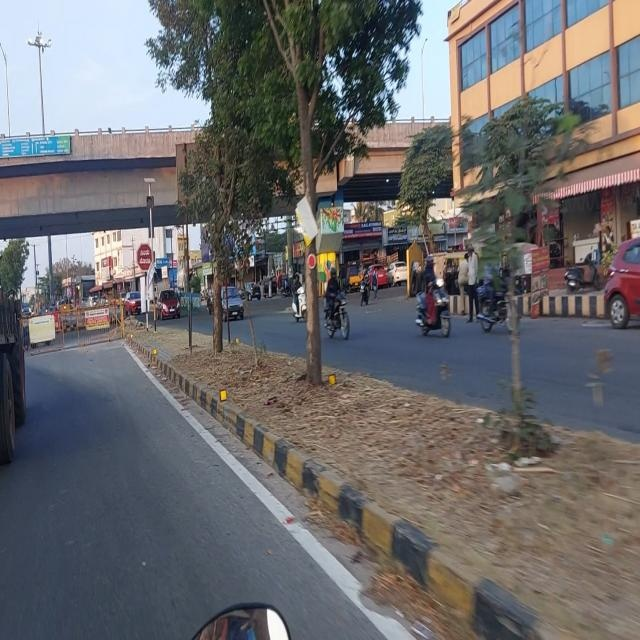bien_nguy_hiem: (136, 242, 152, 270)
